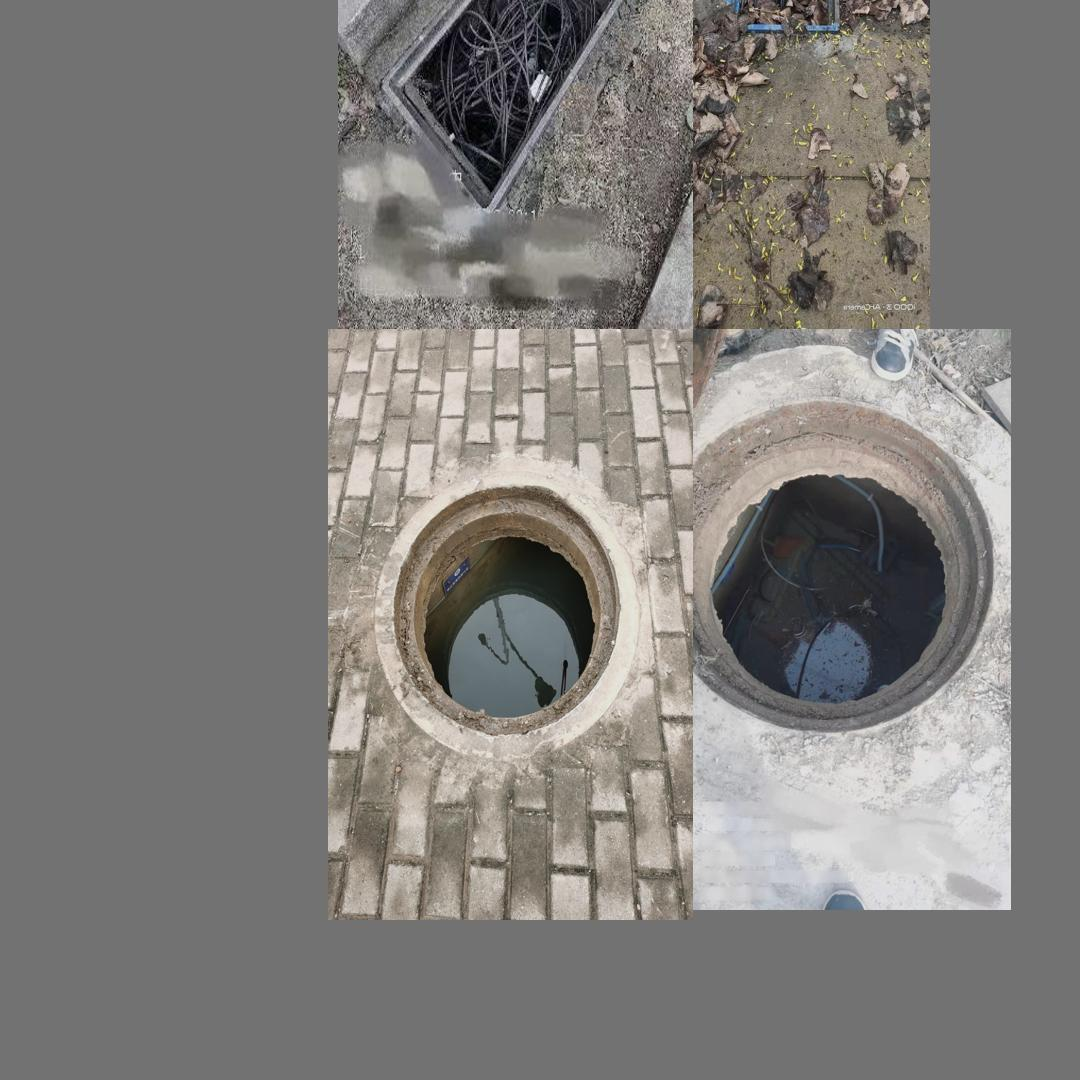lose: (699, 366, 990, 781), (372, 471, 639, 758), (378, 0, 644, 137), (725, 0, 845, 35)
